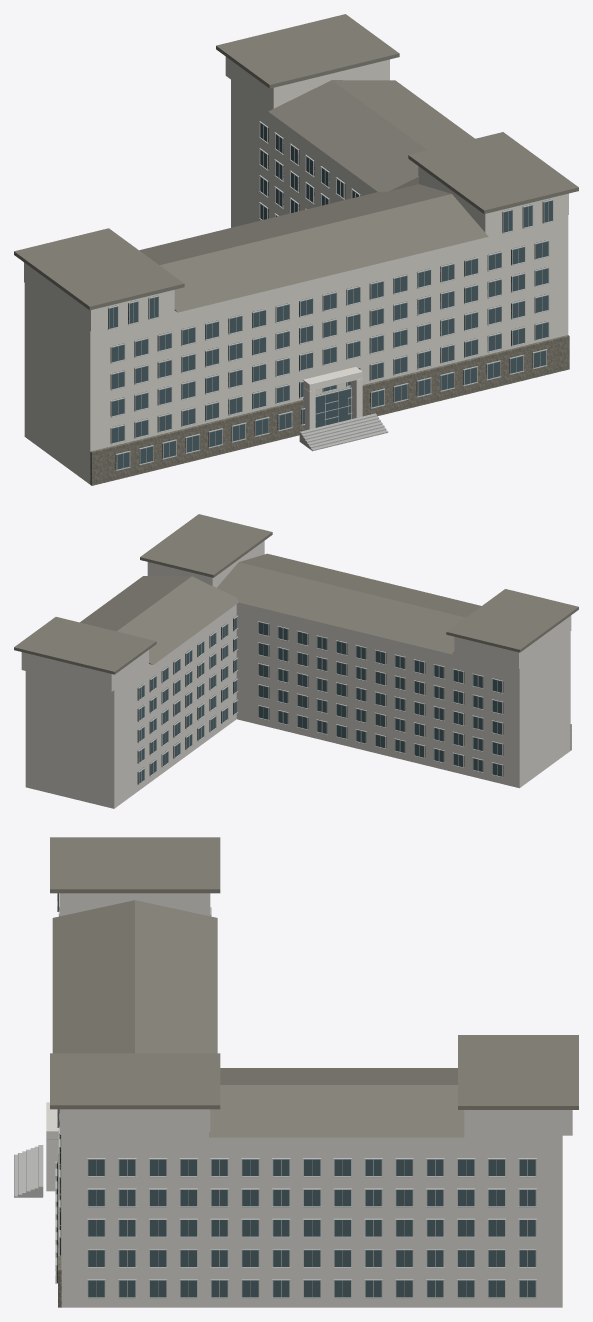
3 renders of one model, top to bottom at view 1: azimuth 30°, elevation 25°; view 2: azimuth 150°, elevation 25°; view 3: azimuth 270°, elevation 25°, orthographic. The views are drawn at different scales.
Parts seen in each view (by area): view 1: unified-L-shaped-main-body__clad, central-long-pitched-roof__roof, large-dark-end-eaves__roof, front-five-storey-windows__glass, side-return-pitched-roof__roof, lower-rusticated-stone-base__stone, front-five-storey-windows__frame, estimated-back-pavilion-eaves__roof, higher-front-end-pavilions__clad, base-level-recess-windows__glass, estimated-back-end-pavilion__clad, base-level-recess-windows__frame (+8 smaller); view 2: unified-L-shaped-main-body__clad, central-long-pitched-roof__roof, large-dark-end-eaves__roof, estimated-inner-rear-windows__glass, side-return-pitched-roof__roof, estimated-inner-rear-windows__frame, estimated-back-pavilion-eaves__roof, estimated-inner-courtyard-windows__frame, higher-front-end-pavilions__clad, estimated-inner-courtyard-windows__glass, estimated-back-end-pavilion__clad, estimated-inner-rear-windows__dark (+1 smaller); view 3: unified-L-shaped-main-body__clad, central-long-pitched-roof__roof, long-side-five-storey-windows__glass, large-dark-end-eaves__roof, side-return-pitched-roof__roof, long-side-five-storey-windows__frame, estimated-back-pavilion-eaves__roof, higher-front-end-pavilions__clad, estimated-back-end-pavilion__clad, entrance-stairs__concrete, dressed-entry-portal__trim.
Part boxes in pixels (left/top/right/bottom): unified-L-shaped-main-body__clad: left=24, top=80, right=568, bottom=484; central-long-pitched-roof__roof: left=139, top=184, right=488, bottom=312; large-dark-end-eaves__roof: left=14, top=132, right=578, bottom=310; front-five-storey-windows__glass: left=112, top=241, right=548, bottom=443; side-return-pitched-roof__roof: left=268, top=80, right=474, bottom=191; lower-rusticated-stone-base__stone: left=90, top=335, right=569, bottom=485; front-five-storey-windows__frame: left=110, top=240, right=549, bottom=444; estimated-back-pavilion-eaves__roof: left=216, top=14, right=399, bottom=88; higher-front-end-pavilions__clad: left=24, top=166, right=568, bottom=331; base-level-recess-windows__glass: left=117, top=350, right=545, bottom=469; estimated-back-end-pavilion__clad: left=225, top=57, right=389, bottom=109; base-level-recess-windows__frame: left=115, top=349, right=547, bottom=470; unified-L-shaped-main-body__clad: left=25, top=602, right=570, bottom=808; central-long-pitched-roof__roof: left=217, top=553, right=481, bottom=654; large-dark-end-eaves__roof: left=140, top=514, right=578, bottom=652; estimated-inner-rear-windows__glass: left=258, top=622, right=501, bottom=776; side-return-pitched-roof__roof: left=80, top=576, right=238, bottom=664; estimated-inner-rear-windows__frame: left=257, top=621, right=503, bottom=777; estimated-back-pavilion-eaves__roof: left=14, top=617, right=156, bottom=674; estimated-inner-courtyard-windows__frame: left=138, top=615, right=238, bottom=784; higher-front-end-pavilions__clad: left=147, top=541, right=571, bottom=668; estimated-inner-courtyard-windows__glass: left=139, top=617, right=237, bottom=783; estimated-back-end-pavilion__clad: left=21, top=650, right=148, bottom=691; estimated-inner-rear-windows__dark: left=259, top=622, right=503, bottom=776; unified-L-shaped-main-body__clad: left=61, top=1135, right=562, bottom=1307; central-long-pitched-roof__roof: left=52, top=900, right=217, bottom=1053; long-side-five-storey-windows__glass: left=88, top=1159, right=535, bottom=1297; large-dark-end-eaves__roof: left=50, top=837, right=220, bottom=1109; side-return-pitched-roof__roof: left=209, top=1068, right=464, bottom=1137; long-side-five-storey-windows__frame: left=87, top=1158, right=536, bottom=1298; estimated-back-pavilion-eaves__roof: left=458, top=1035, right=578, bottom=1109; higher-front-end-pavilions__clad: left=60, top=893, right=210, bottom=1134; estimated-back-end-pavilion__clad: left=464, top=1110, right=572, bottom=1135; entrance-stairs__concrete: left=14, top=1145, right=43, bottom=1197; dressed-entry-portal__trim: left=46, top=1102, right=58, bottom=1191.
Bounding box in the file's own units: 64.8 × 23.13 × 57.48.
Materials: 8 (1 with a texture image).
